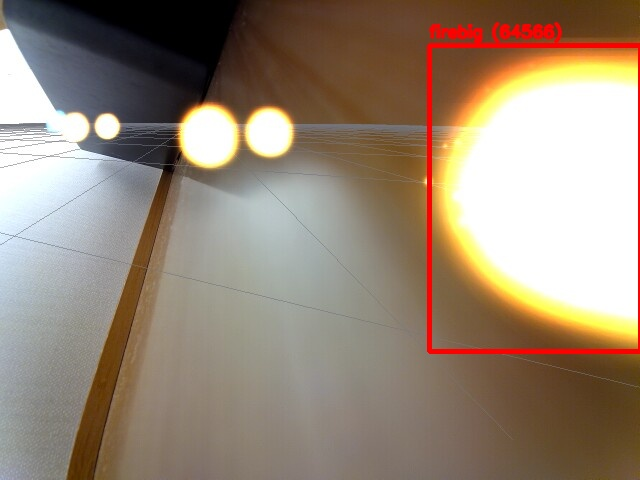firebig: (429, 45, 640, 351)
